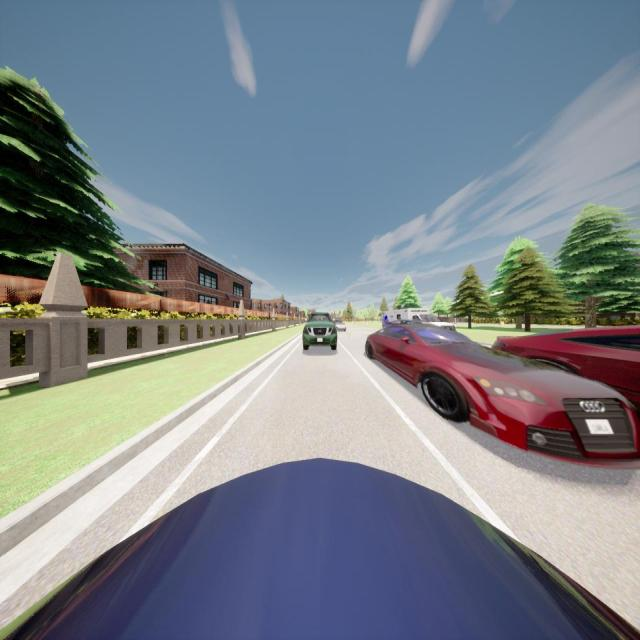Vehicle: (0, 457, 640, 640), (365, 323, 639, 467), (489, 325, 640, 402), (381, 308, 456, 330), (302, 312, 338, 351), (334, 320, 346, 332)
